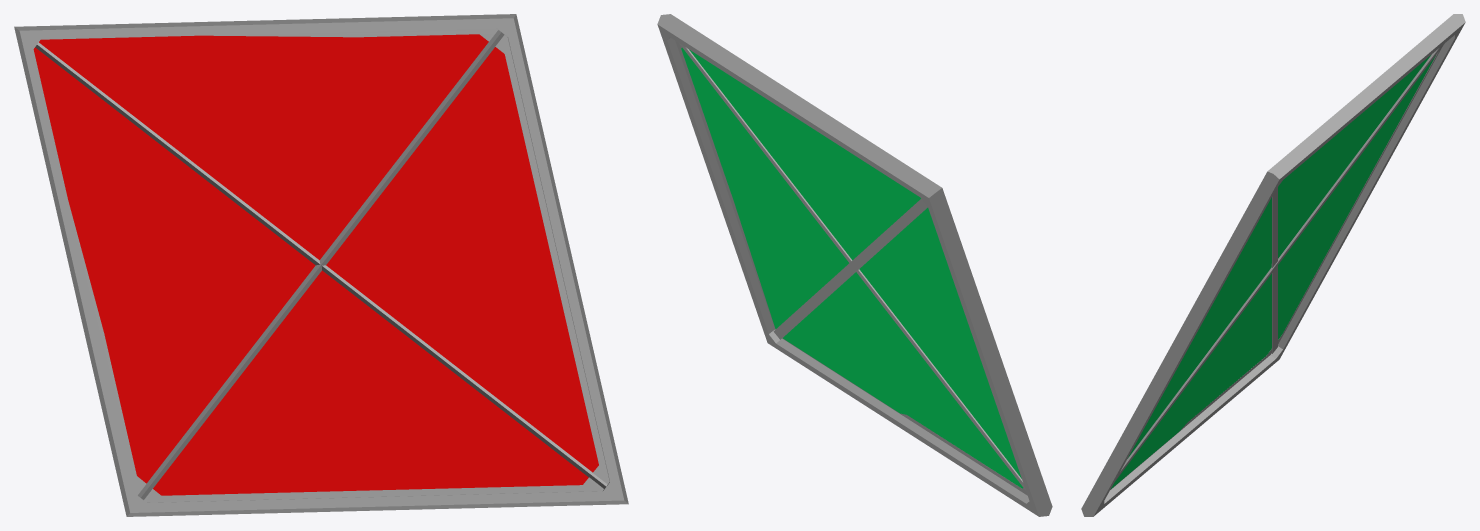
The model's file is angled slope Inv.fbx.
The picture shows the model from 3 angles, left to right: view 1: azimuth 30°, elevation 25°; view 2: azimuth 150°, elevation 25°; view 3: azimuth 270°, elevation 25°; orthographic projection. The views are drawn at different scales.
Parts seen in each view (by area): view 1: window, frame, Construction_model, Bezzel; view 2: window, Construction_model, frame, Bezzel; view 3: window, Construction_model, Bezzel.
Boxes of the visible parts, x1,y1,x2,y2 form: window: [33, 34, 598, 495]; frame: [14, 14, 628, 516]; Construction_model: [15, 14, 628, 503]; Bezzel: [68, 28, 609, 502]; window: [681, 47, 1023, 488]; Construction_model: [657, 14, 1038, 516]; frame: [661, 14, 1052, 516]; Bezzel: [675, 41, 1027, 495]; window: [1111, 55, 1435, 488]; Construction_model: [1081, 14, 1465, 516]; Bezzel: [1110, 46, 1442, 489].
Size of the model in its own units: 2.54 by 2.54 by 2.58.
